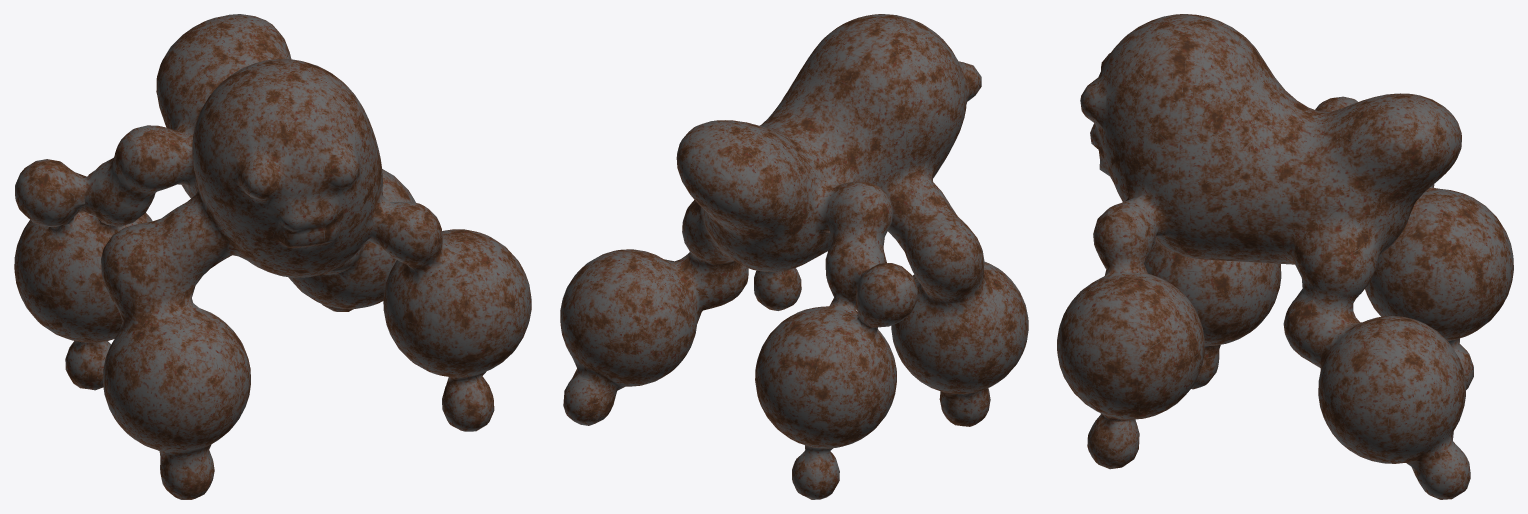
File: eoe_monster_animation.glb
3 views of the same model, side by side, from view 1: azimuth 30°, elevation 25°; view 2: azimuth 150°, elevation 25°; view 3: azimuth 270°, elevation 25° (orthographic). The views are drawn at different scales.
Parts seen in each view (by area): view 1: Mball.003; view 2: Mball.003; view 3: Mball.003.
Boxes of the visible parts, left/top/right/bottom form: Mball.003: left=14, top=14, right=531, bottom=499; Mball.003: left=560, top=14, right=1028, bottom=499; Mball.003: left=1057, top=14, right=1513, bottom=499.
Size of the model in its own units: 15.75 by 15.7 by 15.89.
1 material, 1 textured.
